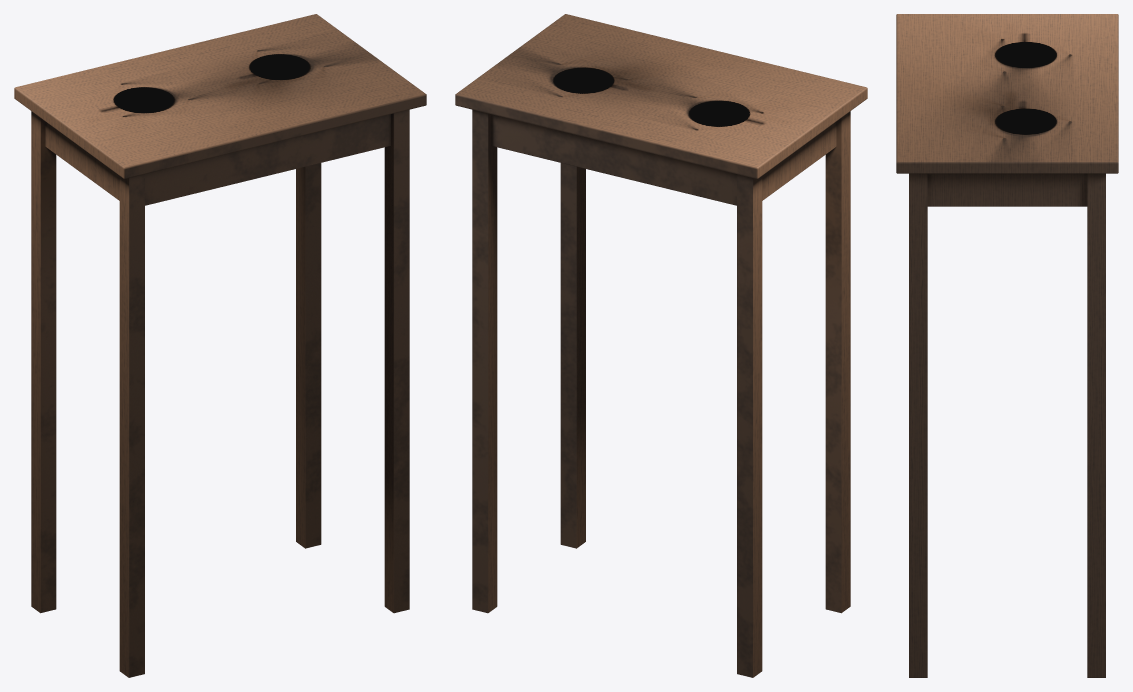
Rendered from 812_cast.glb.
3 renders of one model, left to right at view 1: azimuth 30°, elevation 25°; view 2: azimuth 150°, elevation 25°; view 3: azimuth 270°, elevation 25°, orthographic.
Visible parts, largest first — view 1: Table; view 2: Table; view 3: Table.
Part boxes in pixels (x1,y1,x2,y2): Table: (14,14,426,677); Table: (455,14,867,677); Table: (896,14,1118,677).
Size of what is drawn, in the model's own units: 1.9 by 3.1 by 1.2.
1 material, 1 textured.
